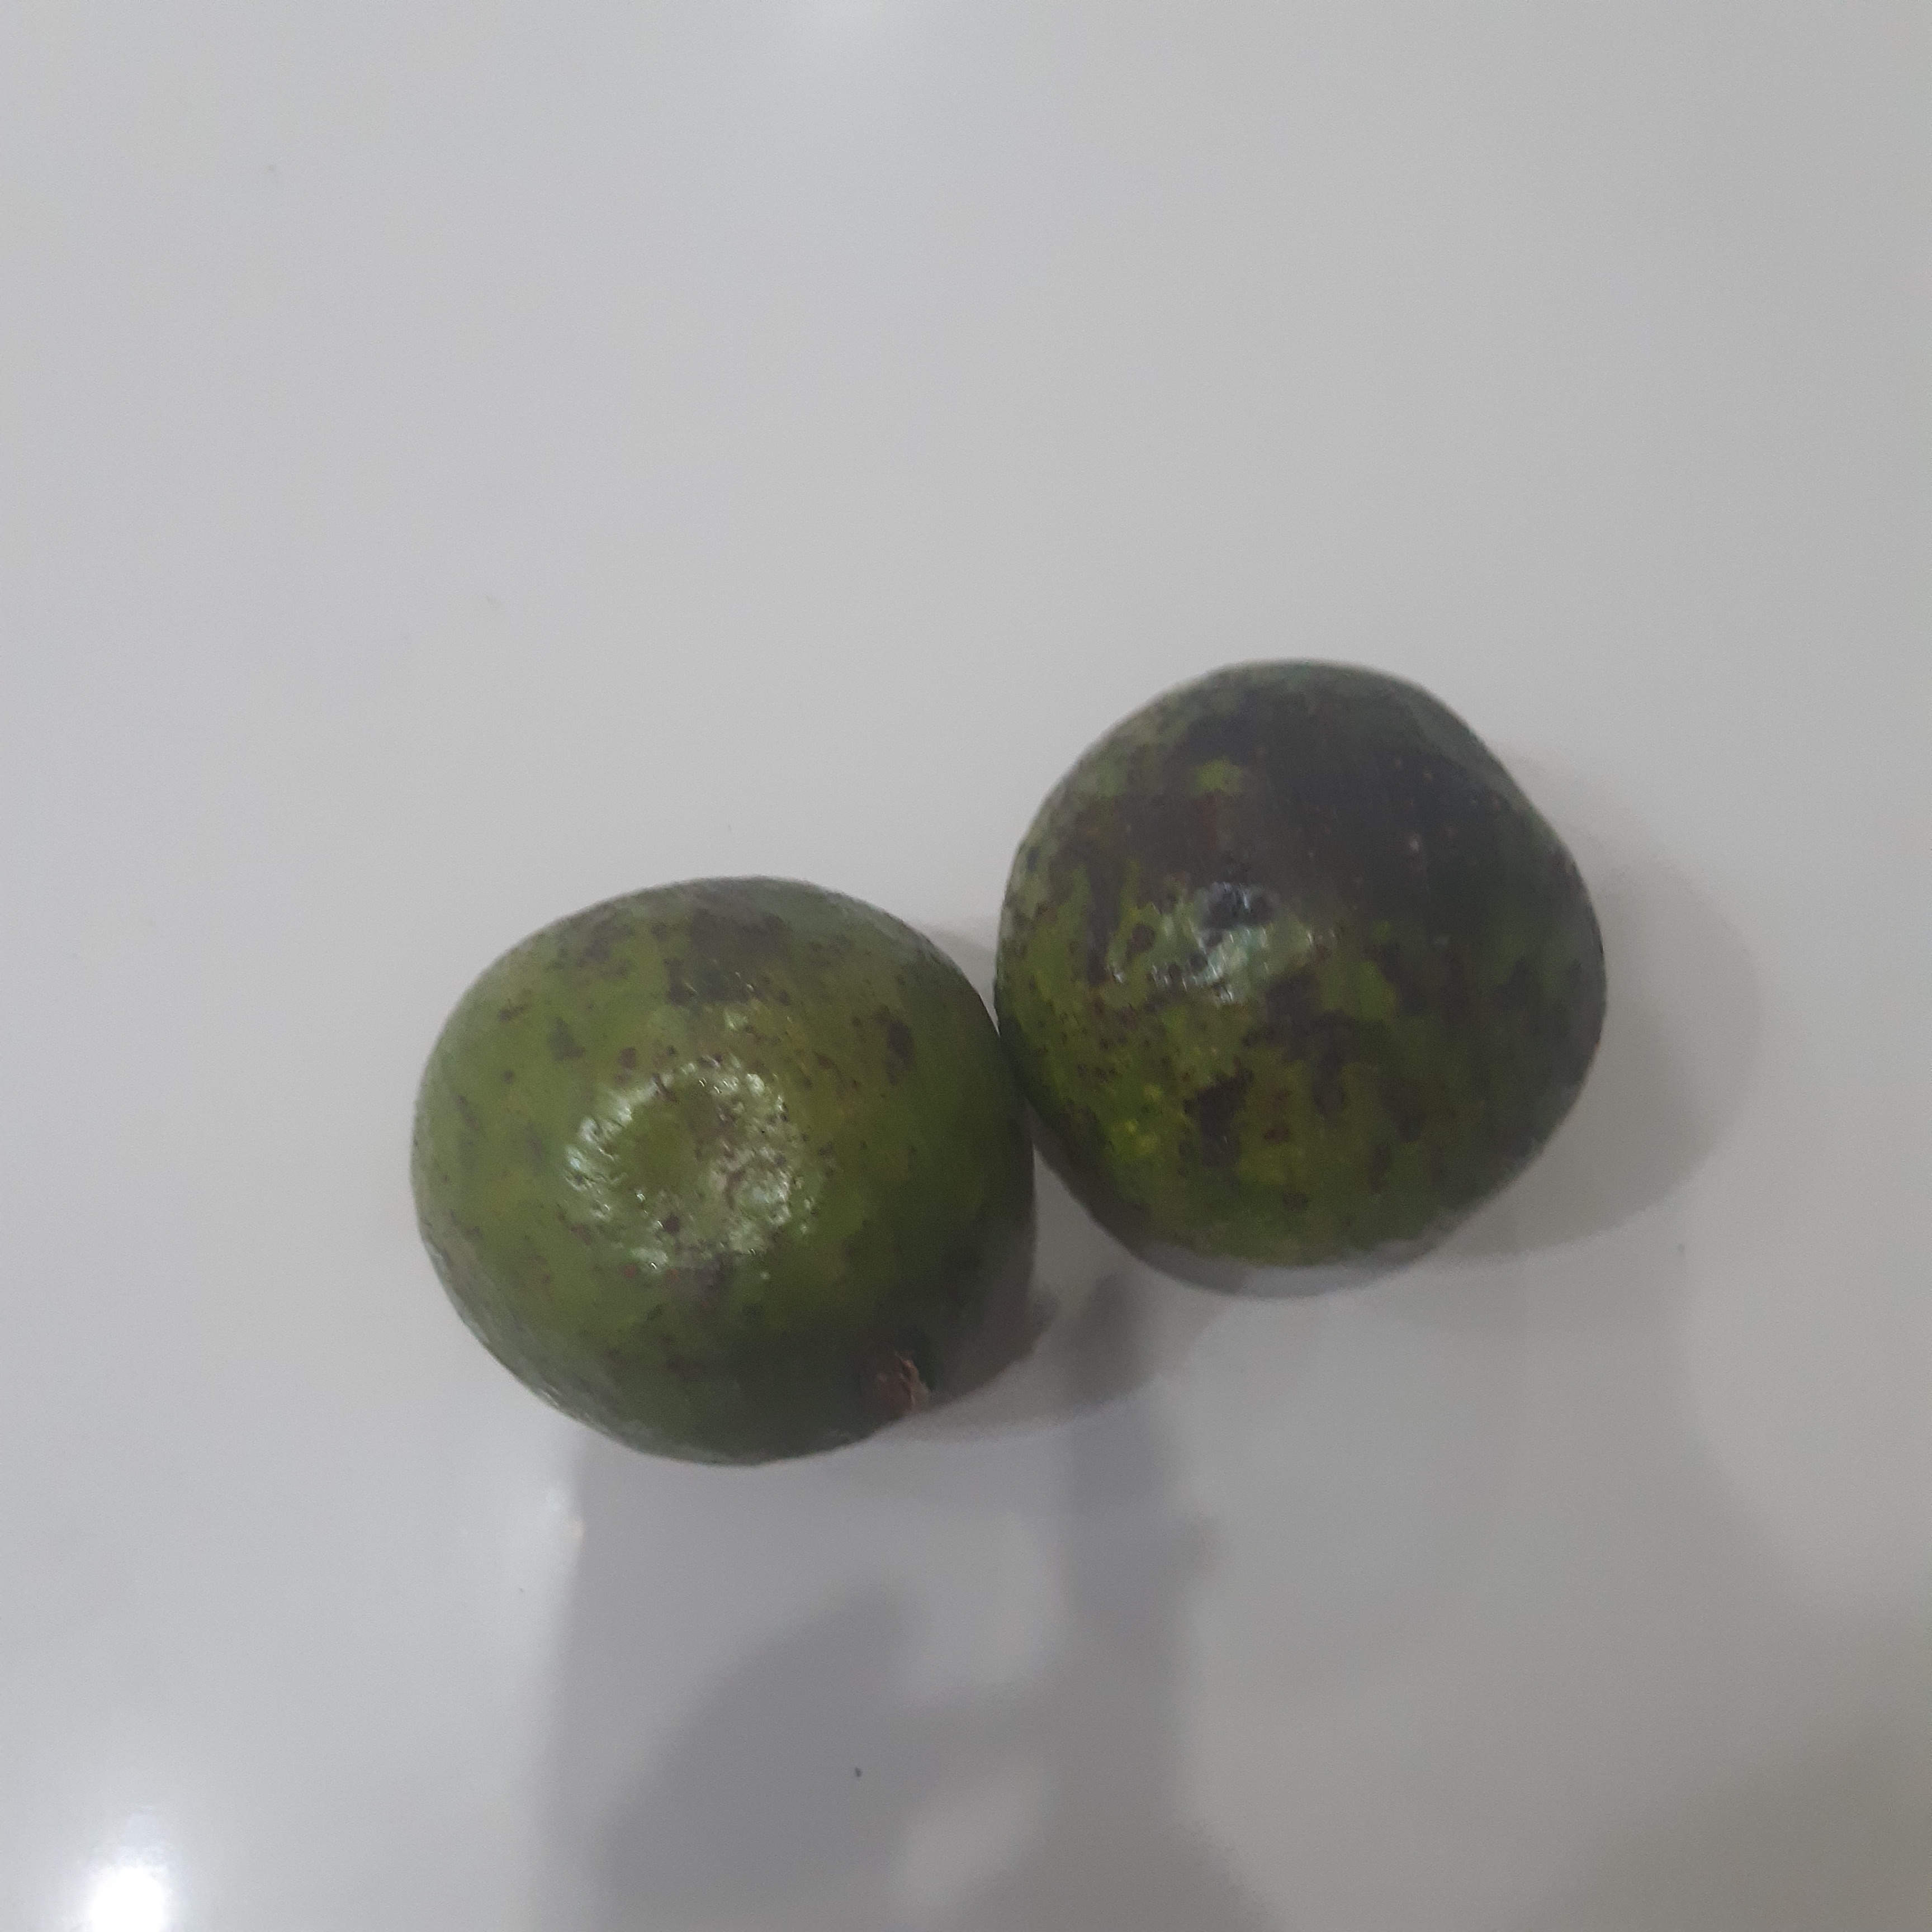Bo: (987, 658, 1610, 1274), (405, 881, 1012, 1477)
